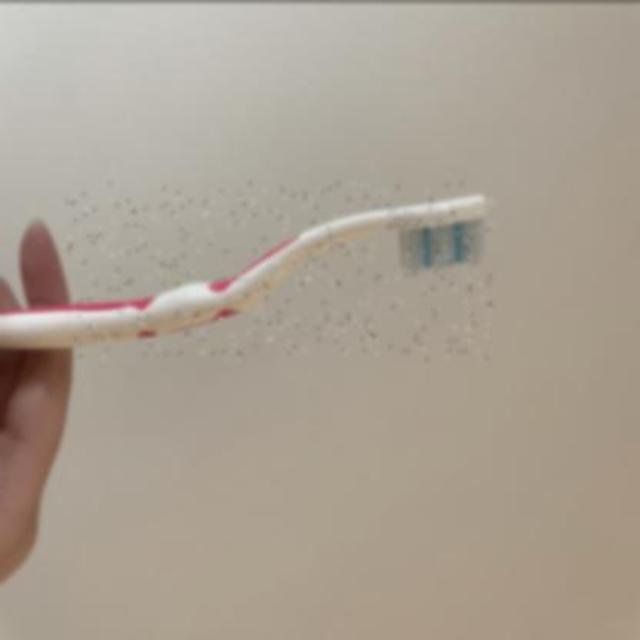toothbrush: (66, 182, 498, 358)
